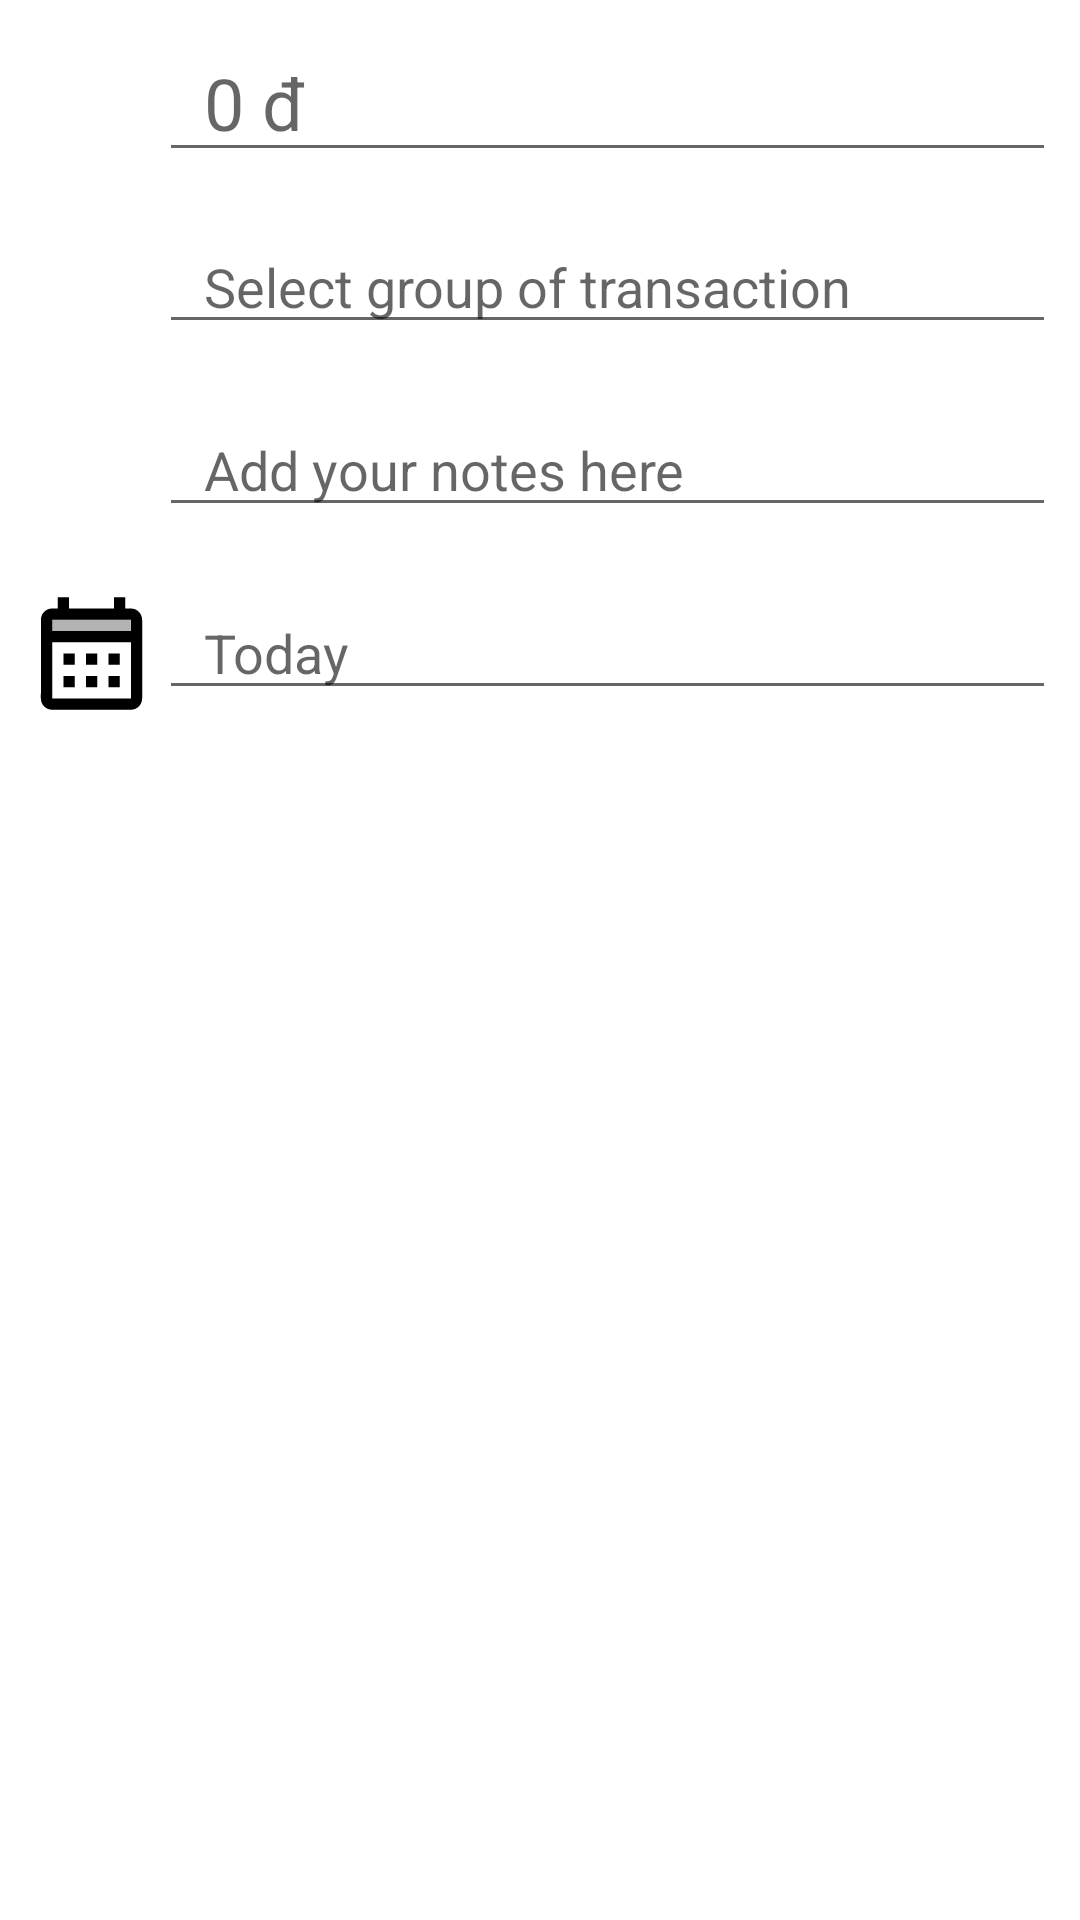

Screen size 1080 × 1920. Icon name, then its center in pixels as (x,y):
calendar: (91,653)
